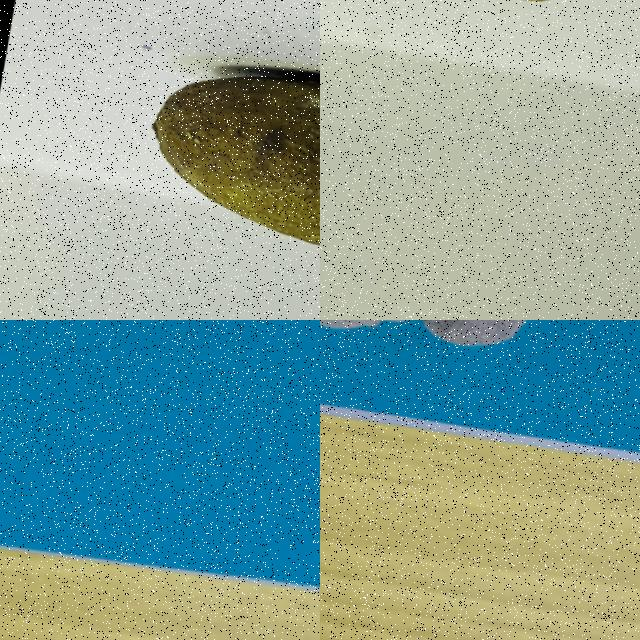Agglomerated_cocoabeans: (320, 320, 639, 407)
Fine_cocoabeans: (93, 1, 319, 289)
Flat_cocoabeans: (320, 0, 639, 61)
